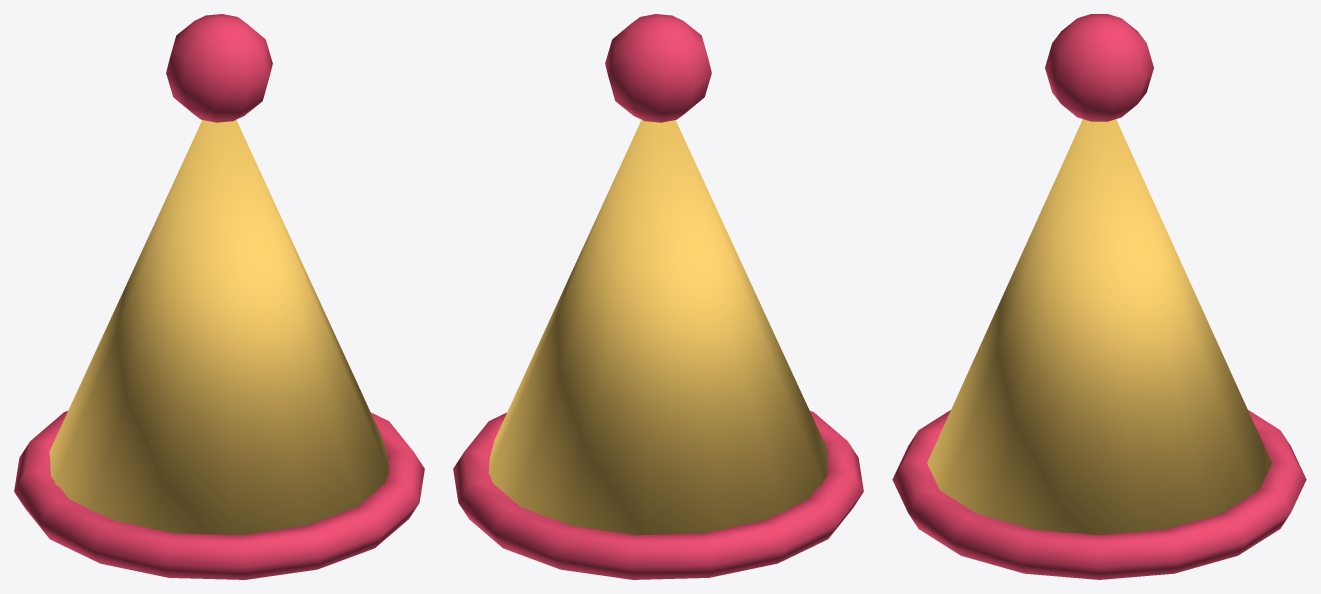
The model's file is party-hat.glb.
3 views of the same model, side by side, from view 1: azimuth 30°, elevation 25°; view 2: azimuth 150°, elevation 25°; view 3: azimuth 270°, elevation 25° (orthographic).
Parts seen in each view (by area): view 1: party-hat_cone; view 2: party-hat_cone; view 3: party-hat_cone.
Boxes of the visible parts, x1,y1,x2,y2 form: party-hat_cone: (14, 14, 424, 579); party-hat_cone: (453, 14, 863, 579); party-hat_cone: (892, 14, 1306, 579).
Size of the model in its own units: 0.258 by 0.3291 by 0.258.
